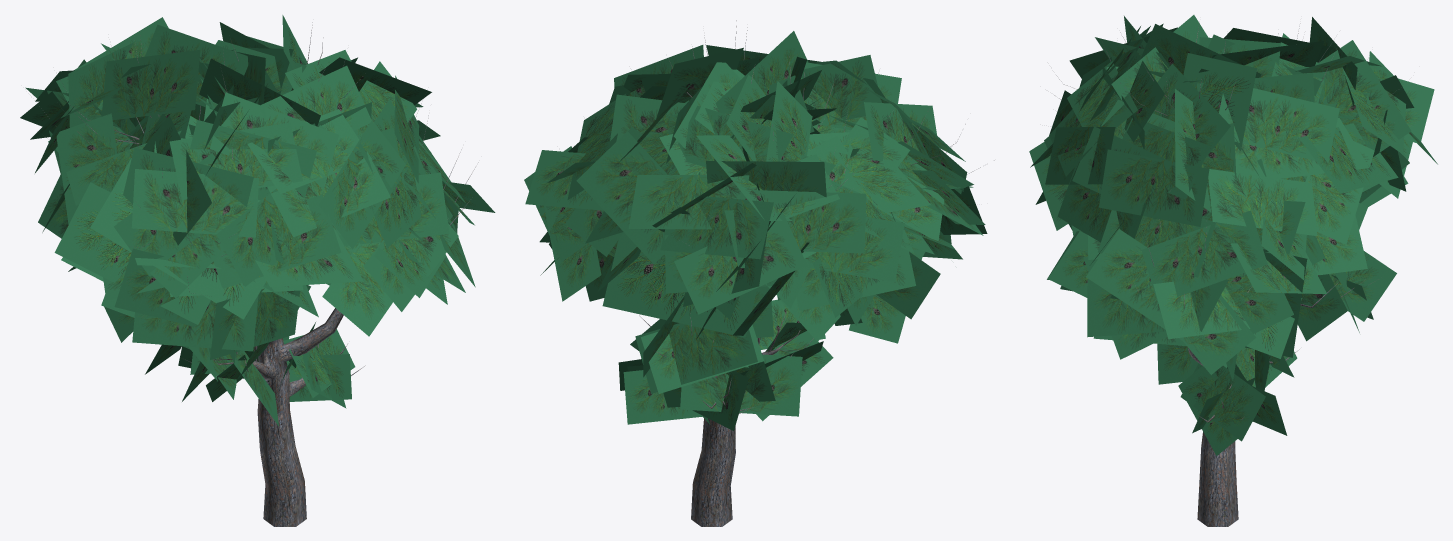
File: Tree_Conifer_1.obj
3 views of the same model, side by side, from view 1: azimuth 30°, elevation 25°; view 2: azimuth 150°, elevation 25°; view 3: azimuth 270°, elevation 25° (orthographic). The views are drawn at different scales.
Visible parts, largest first — view 1: Conifer_1_Branches, Conifer_1_Trunk; view 2: Conifer_1_Branches, Conifer_1_Trunk; view 3: Conifer_1_Branches, Conifer_1_Trunk.
Part boxes in pixels (box(x1,y1,x2,y2)): Conifer_1_Branches: box(20, 15, 495, 426); Conifer_1_Trunk: box(39, 22, 478, 526); Conifer_1_Branches: box(524, 31, 987, 430); Conifer_1_Trunk: box(639, 20, 994, 526); Conifer_1_Branches: box(1029, 15, 1437, 455); Conifer_1_Trunk: box(1054, 23, 1393, 526).
Size of the model in its own units: 588 by 633 by 498.
Materials: 4 (4 with a texture image).
